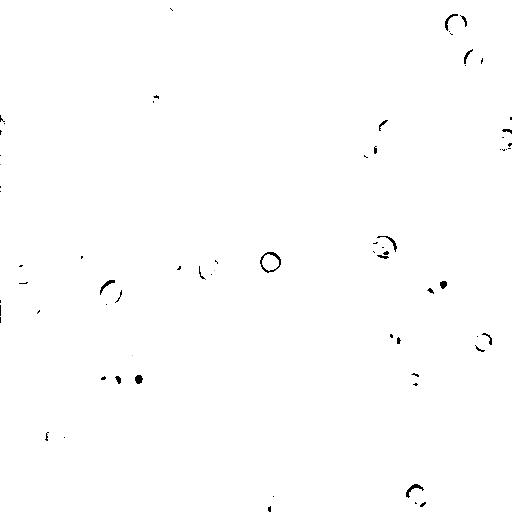micro-algae: (357, 176, 403, 222), (58, 239, 95, 273), (15, 71, 53, 104), (109, 342, 143, 377), (218, 145, 251, 178), (124, 364, 155, 396), (39, 14, 70, 40), (98, 277, 124, 308), (410, 288, 441, 314), (403, 482, 430, 510), (89, 369, 114, 399), (372, 234, 399, 260), (43, 422, 68, 450), (10, 260, 36, 286), (444, 12, 468, 38), (393, 410, 421, 432), (433, 271, 457, 295), (462, 46, 485, 71), (2, 302, 25, 327), (199, 255, 220, 282), (259, 251, 283, 273), (358, 138, 380, 161), (380, 332, 403, 354), (259, 498, 294, 512), (473, 331, 495, 353), (378, 117, 399, 140), (397, 368, 422, 387), (165, 252, 184, 272), (166, 0, 192, 13), (25, 301, 43, 319), (1, 116, 7, 135)
